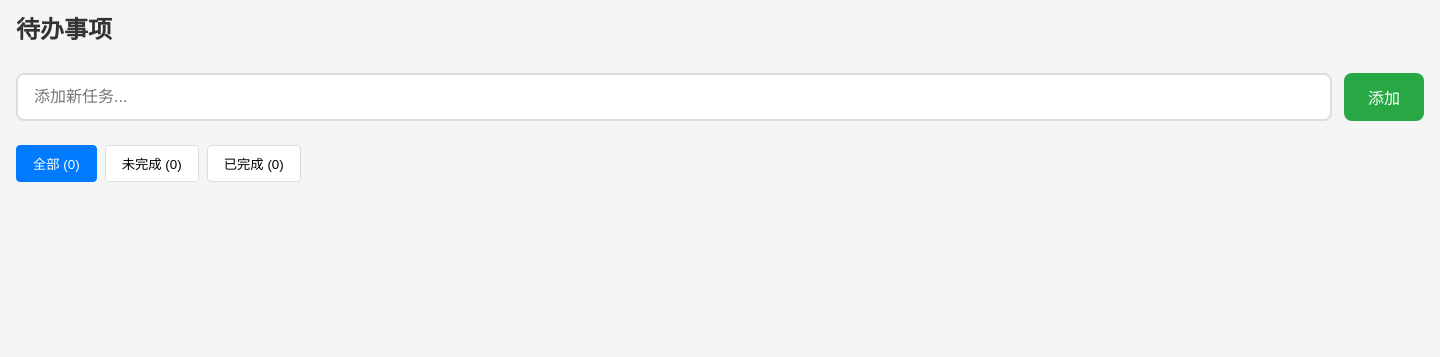
Test: TodoList › should toggle todo completion
Type "测试任务" into the field with placeholder "添加新任务..." at (674, 97), box [16,73,1332,121]
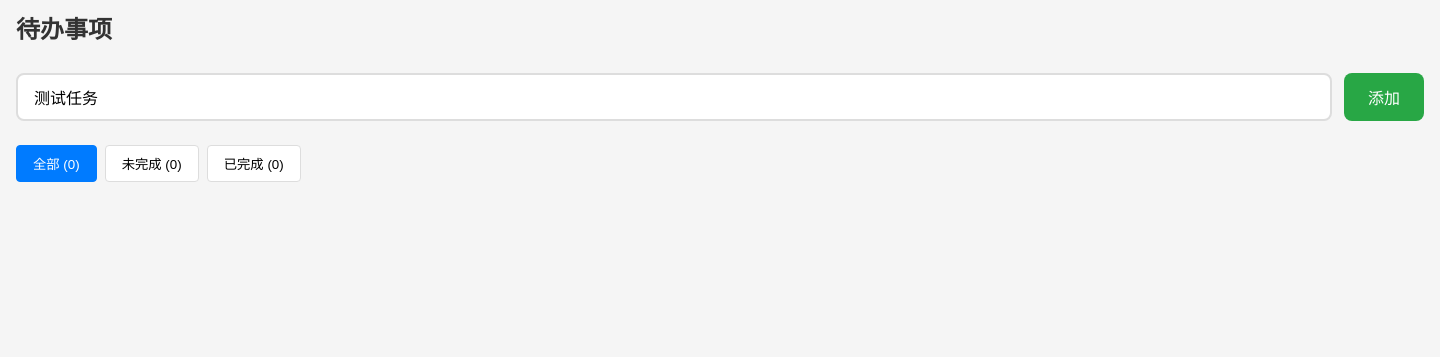
Click the button "添加" at (1384, 97), box [1344,73,1424,121]
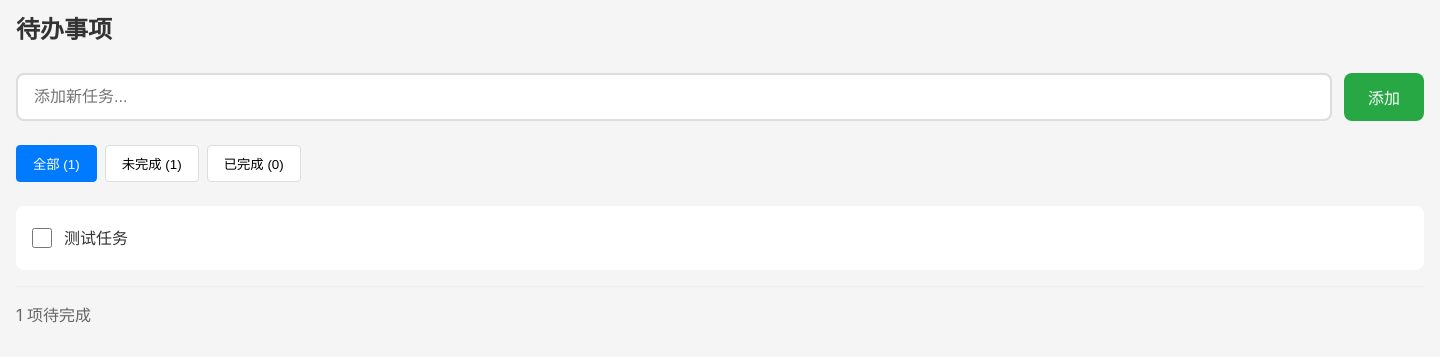
Click the checkbox at (42, 238), box [32,228,52,248]
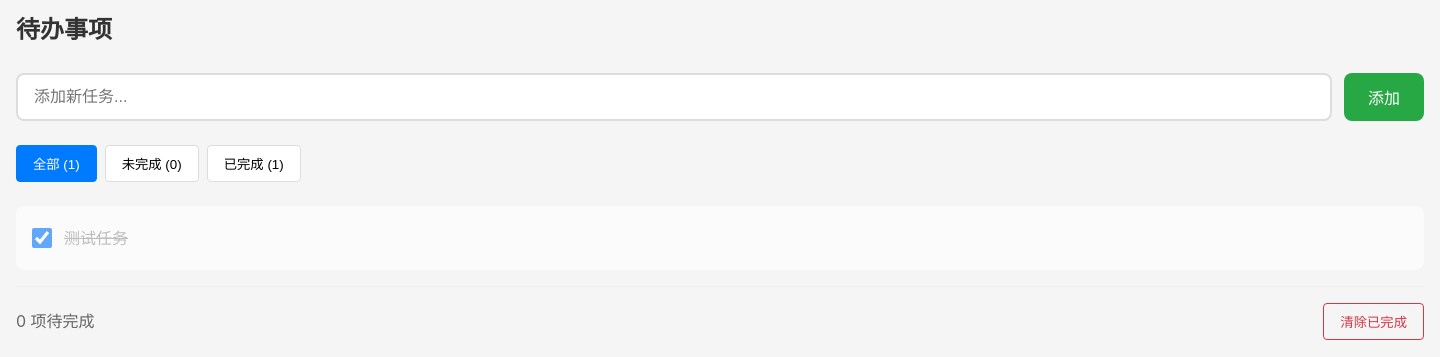
Expected: the button "已完成 (1)" is shown, [207,145,301,182]
